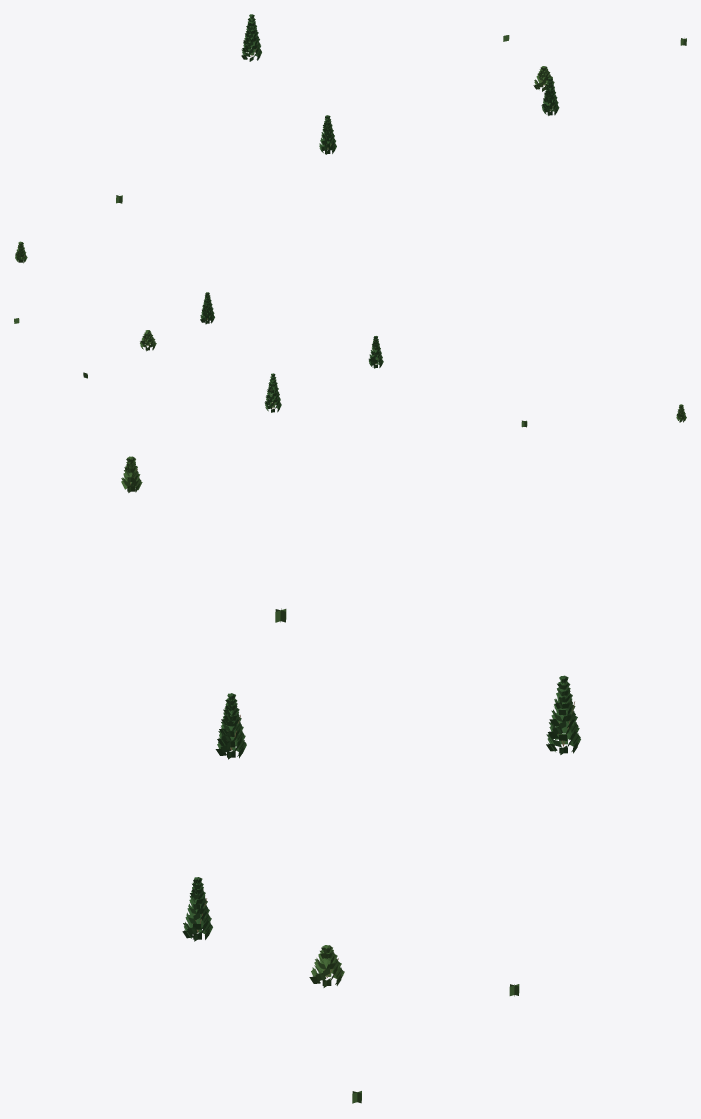
The model's file is arch_canopy_saltwatch_keep_lod1.glb.
The picture shows the model from 3 angles, top to bottom: view 1: azimuth 30°, elevation 25°; view 2: azimuth 150°, elevation 25°; view 3: azimuth 270°, elevation 25°; orthographic projection. The views are drawn at different scales.
Visible parts, largest first — view 1: arch_canopy_saltwatch_keep_lod1; view 2: arch_canopy_saltwatch_keep_lod1; view 3: arch_canopy_saltwatch_keep_lod1.
Boxes of the visible parts, left/top/right/bottom form: arch_canopy_saltwatch_keep_lod1: left=15, top=14, right=686, bottom=263; arch_canopy_saltwatch_keep_lod1: left=14, top=292, right=686, bottom=427; arch_canopy_saltwatch_keep_lod1: left=121, top=456, right=580, bottom=1103.
Bounding box in the file's own units: 115 × 11.21 × 37.21.
